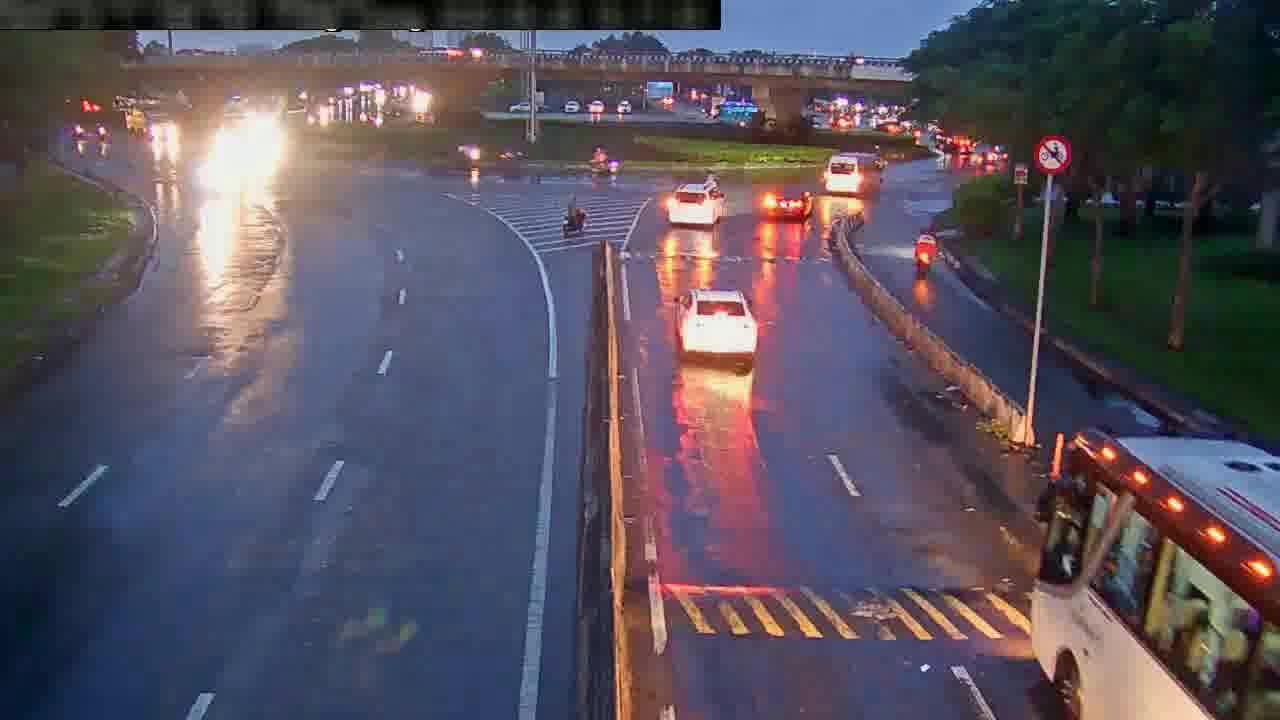14: (1036, 430, 1277, 720), (825, 154, 889, 196)
container: (675, 284, 756, 368), (666, 179, 723, 230), (763, 184, 814, 223)
motorbike: (914, 225, 940, 278), (557, 196, 587, 239)
